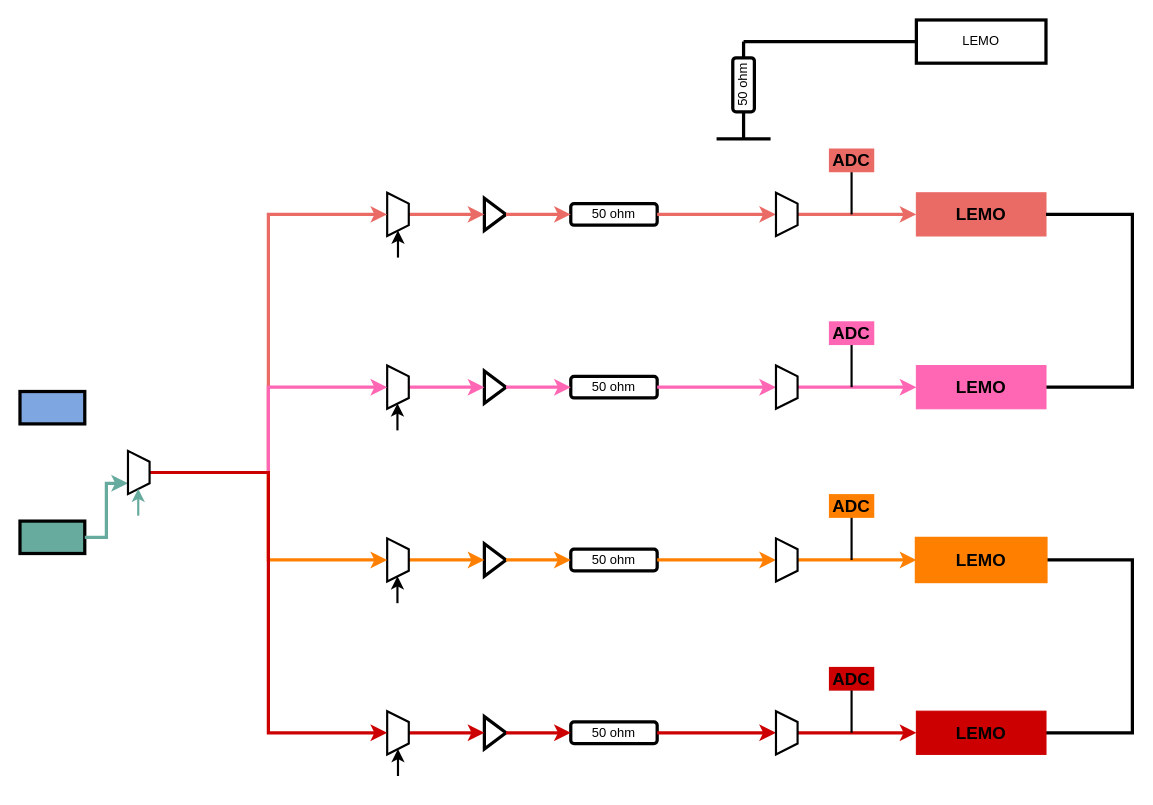
This 1153x805 diagram has some shape labels left out. The centre of each missing label's shape, as x and y in pixels:
"1 V" goes at (x=52, y=407).
"1.6 V" goes at (x=52, y=537).
